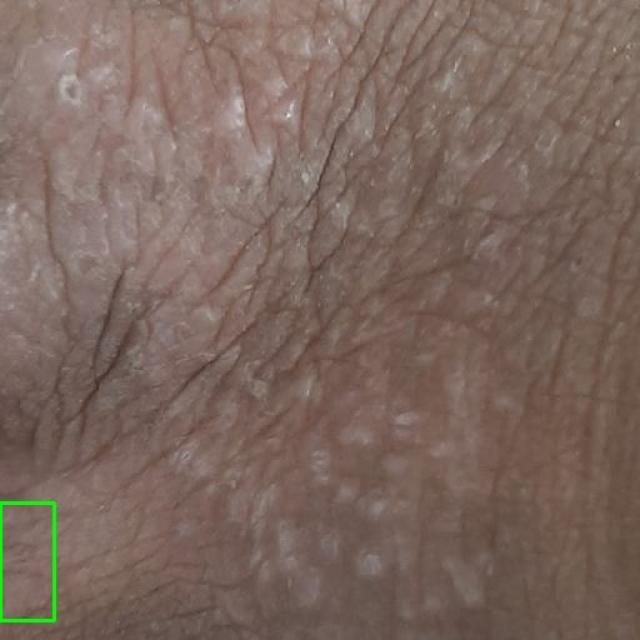Eczema: (0, 502, 54, 620)
